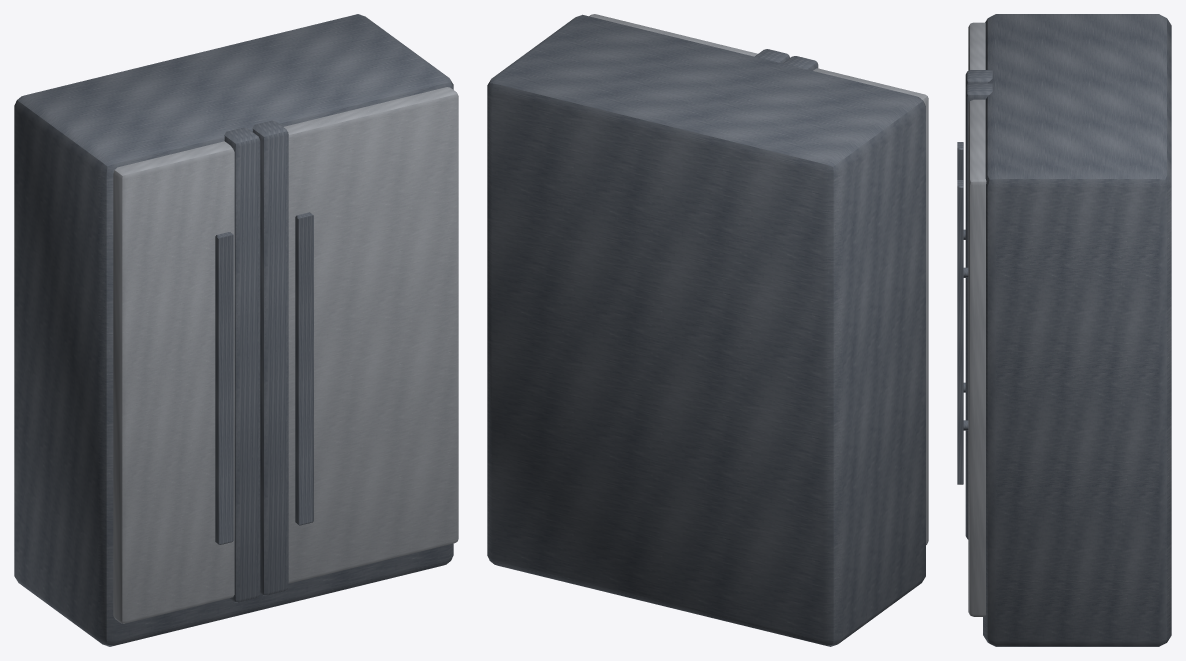
File: Fridge.FBX
3 renders of one model, left to right at view 1: azimuth 30°, elevation 25°; view 2: azimuth 150°, elevation 25°; view 3: azimuth 270°, elevation 25°, orthographic. The views are drawn at different scales.
Parts seen in each view (by area): view 1: Fridge; view 2: Fridge; view 3: Fridge.
Boxes of the visible parts, box(x1,y1,x2,y2) form: Fridge: box(14, 14, 458, 646); Fridge: box(487, 14, 928, 646); Fridge: box(957, 14, 1171, 646).
Bounding box in the file's own units: 153 × 201 × 82.29.
Materials: 2 (2 with a texture image).
